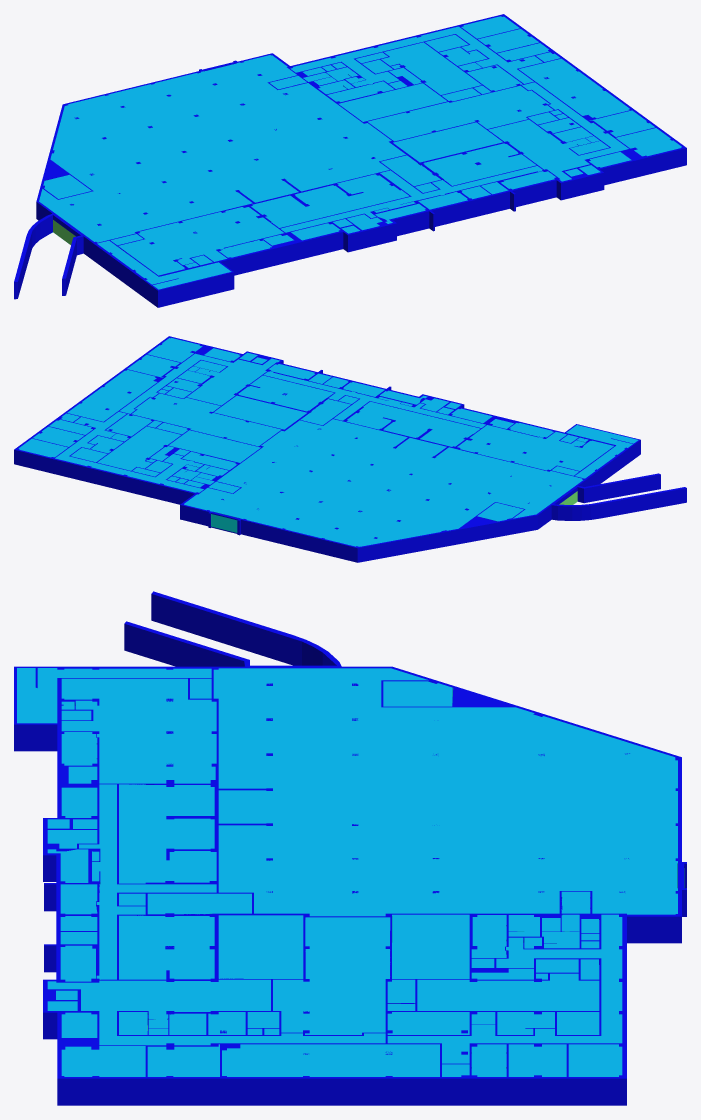
The model's file is floor_-1.gltf.
3 renders of one model, top to bottom at view 1: azimuth 30°, elevation 25°; view 2: azimuth 150°, elevation 25°; view 3: azimuth 270°, elevation 25°, orthographic. The views are drawn at different scales.
Parts seen in each view (by area): view 1: Room_-1_4589_-37666, group_solid_mesh, Room_-1_-13322_-8861, Room_-1_46509_-28305, Room_-1_53818_-12865, Room_-1_11713_-10798, Room_-1_66104_-27627, Room_-1_51032_-49608, Room_-1_38991_-10816, Room_-1_50370_-45618, Room_-1_38862_-20396, Room_-1_23694_-5985 (+16 smaller); view 2: Room_-1_4589_-37666, group_solid_mesh, Room_-1_-13322_-8861, Room_-1_46509_-28305, Room_-1_53818_-12865, Room_-1_11713_-10798, Room_-1_51032_-49608, Room_-1_66104_-27627, Room_-1_38991_-10816, Room_-1_50370_-45618, Room_-1_38862_-20396, Room_-1_23694_-5985 (+15 smaller); view 3: Room_-1_4589_-37666, group_solid_mesh, Room_-1_-13322_-8861, Room_-1_46509_-28305, Room_-1_53818_-12865, Room_-1_11713_-10798, Room_-1_66104_-27627, Room_-1_51032_-49608, Room_-1_38991_-10816, Room_-1_50370_-45618, Room_-1_38862_-20396, Room_-1_38762_-37626 (+22 smaller).
Boxes of the visible parts, bbox=[...] form: Room_-1_4589_-37666: bbox=[39, 55, 405, 242]; group_solid_mesh: bbox=[14, 14, 686, 307]; Room_-1_-13322_-8861: bbox=[118, 207, 283, 275]; Room_-1_46509_-28305: bbox=[367, 85, 553, 141]; Room_-1_53818_-12865: bbox=[488, 82, 628, 181]; Room_-1_11713_-10798: bbox=[251, 174, 409, 227]; Room_-1_66104_-27627: bbox=[519, 58, 629, 118]; Room_-1_51032_-49608: bbox=[290, 26, 542, 86]; Room_-1_38991_-10816: bbox=[423, 143, 536, 185]; Room_-1_50370_-45618: bbox=[381, 42, 481, 94]; Room_-1_38862_-20396: bbox=[393, 122, 502, 162]; Room_-1_23694_-5985: bbox=[280, 166, 542, 232]; Room_-1_4589_-37666: bbox=[184, 419, 582, 546]; group_solid_mesh: bbox=[14, 336, 686, 562]; Room_-1_-13322_-8861: bbox=[457, 425, 613, 470]; Room_-1_46509_-28305: bbox=[131, 393, 281, 446]; Room_-1_53818_-12865: bbox=[119, 353, 279, 413]; Room_-1_11713_-10798: bbox=[346, 401, 480, 446]; Room_-1_51032_-49608: bbox=[55, 411, 203, 492]; Room_-1_66104_-27627: bbox=[67, 370, 157, 421]; Room_-1_38991_-10816: bbox=[238, 375, 333, 411]; Room_-1_50370_-45618: bbox=[97, 426, 180, 470]; Room_-1_38862_-20396: bbox=[214, 395, 306, 429]; Room_-1_23694_-5985: bbox=[264, 371, 485, 427]; Room_-1_4589_-37666: bbox=[213, 668, 677, 916]; group_solid_mesh: bbox=[14, 591, 686, 1105]; Room_-1_-13322_-8861: bbox=[61, 678, 216, 783]; Room_-1_46509_-28305: bbox=[273, 917, 390, 1034]; Room_-1_53818_-12865: bbox=[47, 979, 385, 1045]; Room_-1_11713_-10798: bbox=[119, 784, 216, 883]; Room_-1_66104_-27627: bbox=[222, 1044, 439, 1076]; Room_-1_51032_-49608: bbox=[387, 914, 622, 1063]; Room_-1_38991_-10816: bbox=[119, 915, 214, 979]; Room_-1_50370_-45618: bbox=[417, 973, 599, 1010]; Room_-1_38862_-20396: bbox=[218, 915, 303, 978]; Room_-1_38762_-37626: bbox=[392, 914, 469, 978].
Bounding box in the file's own units: 116953 × 3000 × 68249.
